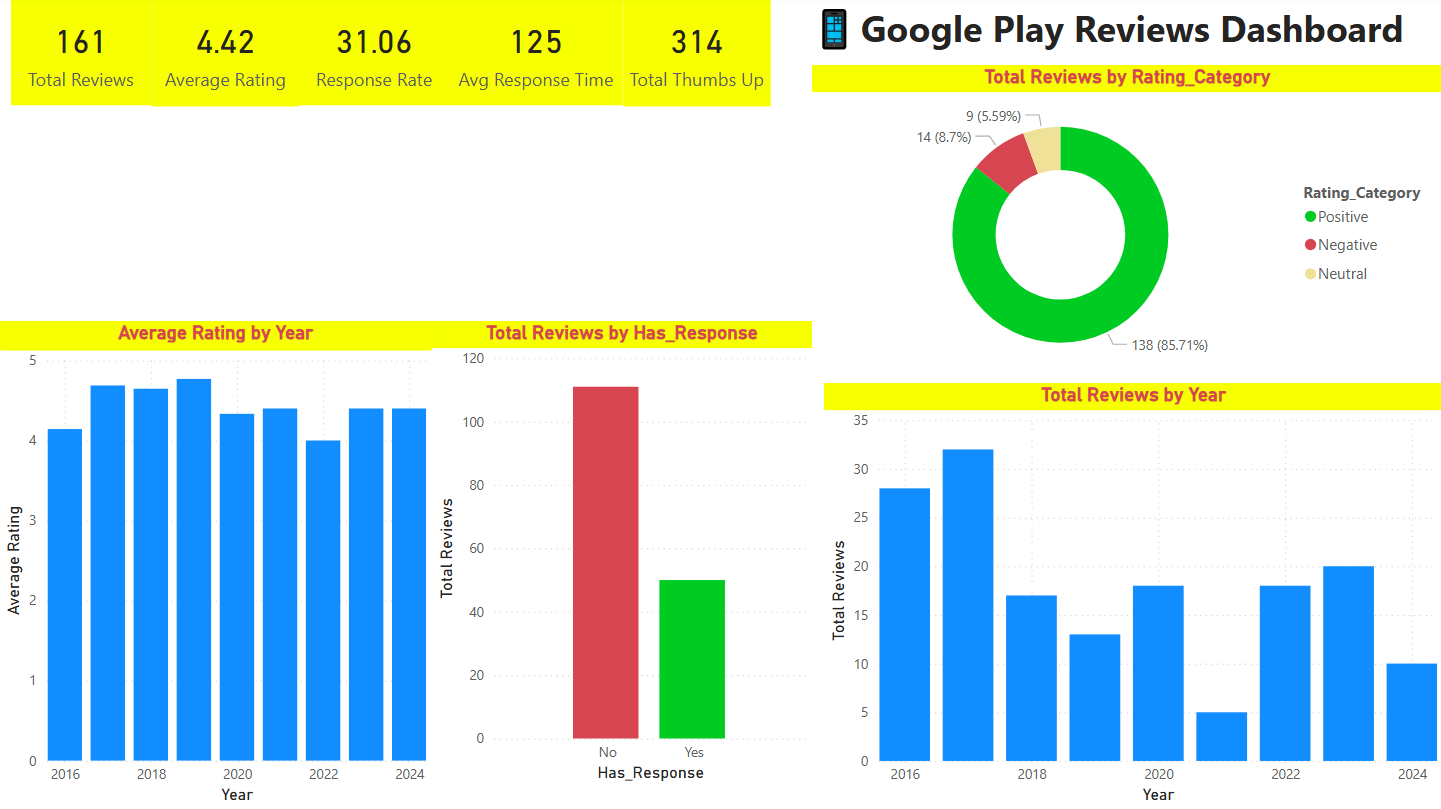

Layout of this report page (visuals, bound fields, positions):
{"tool":"powerbi","page":{"name":"Page 1","canvas":[1280,720],"ordinal":0},"visuals":[{"type":"card","fields":{"Values":["GooglePlay_App_Data.Total Reviews"]},"box":[10.5,0,123.6,96.4],"z":0},{"type":"card","fields":{"Values":["GooglePlay_App_Data.Average Rating"]},"box":[134.4,0,131.7,96.7],"z":1000},{"type":"card","fields":{"Values":["GooglePlay_App_Data.Response Rate"]},"box":[266.1,0,133,96.4],"z":2000},{"type":"card","fields":{"Values":["GooglePlay_App_Data.Avg Response Time"]},"box":[399.1,0,154,96.4],"z":3000},{"type":"card","fields":{"Values":["GooglePlay_App_Data.Total Thumbs Up"]},"box":[553.4,0,130.8,96.7],"z":4000},{"type":"donutChart","fields":{"Category":["GooglePlay_App_Data.Rating_Category"],"Y":["GooglePlay_App_Data.Total Reviews"]},"box":[720.9,60.3,559.5,282],"z":5000},{"type":"clusteredColumnChart","fields":{"Y":["GooglePlay_App_Data.Total Reviews"],"Category":["GooglePlay_App_Data.Year"]},"box":[731.1,341.9,548.9,378.1],"z":6000},{"type":"clusteredColumnChart","fields":{"Y":["GooglePlay_App_Data.Total Reviews"],"Category":["GooglePlay_App_Data.Has_Response"]},"box":[383.9,287.3,336.9,413.2],"z":7000},{"type":"clusteredColumnChart","fields":{"Y":["GooglePlay_App_Data.Average Rating"],"Category":["GooglePlay_App_Data.Year"]},"box":[0,287.3,384,432.8],"z":8000},{"type":"textbox","box":[721,0,559,59.9],"z":9000}]}

Visuals, with their boxes in screenshot pixels (x1, y1, x2, y2), scaled from the page's 1280x720 canvas onto the 1441x809 screenshot:
card - GooglePlay_App_Data.Total Reviews: bbox=[12, 0, 151, 108]
card - GooglePlay_App_Data.Average Rating: bbox=[151, 0, 300, 109]
card - GooglePlay_App_Data.Response Rate: bbox=[300, 0, 449, 108]
card - GooglePlay_App_Data.Avg Response Time: bbox=[449, 0, 623, 108]
card - GooglePlay_App_Data.Total Thumbs Up: bbox=[623, 0, 770, 109]
donutChart - GooglePlay_App_Data.Rating_Category x GooglePlay_App_Data.Total Reviews: bbox=[812, 68, 1440, 385]
clusteredColumnChart - GooglePlay_App_Data.Total Reviews x GooglePlay_App_Data.Year: bbox=[823, 384, 1440, 808]
clusteredColumnChart - GooglePlay_App_Data.Total Reviews x GooglePlay_App_Data.Has_Response: bbox=[432, 323, 811, 787]
clusteredColumnChart - GooglePlay_App_Data.Average Rating x GooglePlay_App_Data.Year: bbox=[0, 323, 432, 808]
textbox: bbox=[812, 0, 1440, 67]
